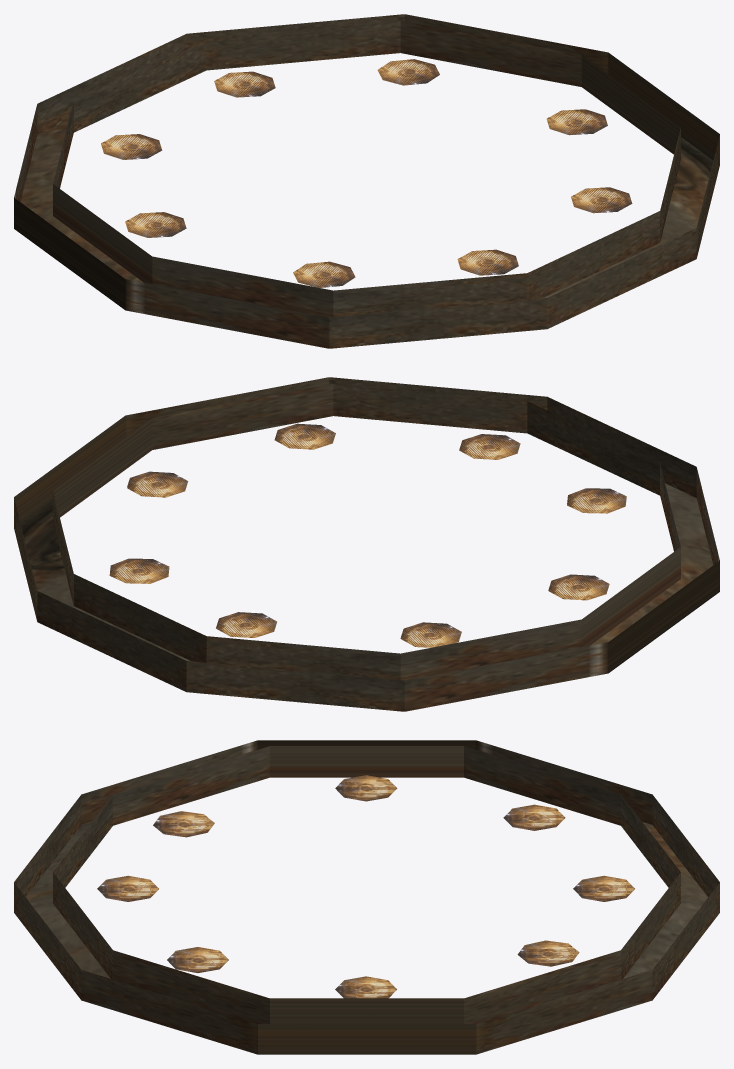
Rendered from OutsideFan.fbx.
3 renders of one model, top to bottom at view 1: azimuth 30°, elevation 25°; view 2: azimuth 150°, elevation 25°; view 3: azimuth 270°, elevation 25°, orthographic. The views are drawn at different scales.
Parts seen in each view (by area): view 1: OutsideFan; view 2: OutsideFan; view 3: OutsideFan.
Boxes of the visible parts, bbox=[...] form: OutsideFan: bbox=[14, 14, 719, 348]; OutsideFan: bbox=[14, 377, 719, 711]; OutsideFan: bbox=[14, 740, 719, 1054].
Size of the model in its own units: 190 by 12.68 by 200.
